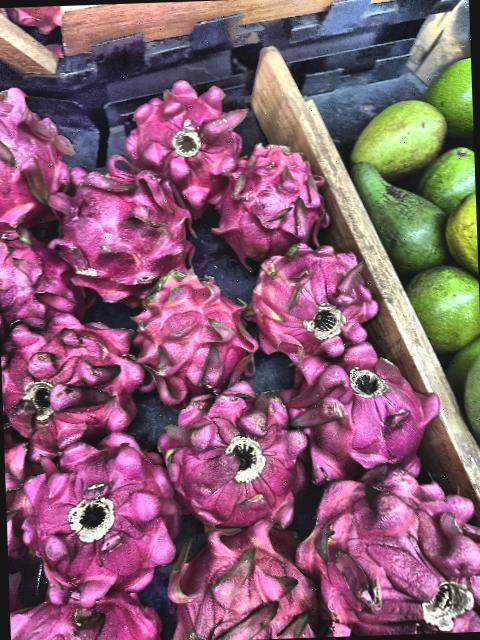buah-naga-matang: (301, 466, 480, 637), (11, 446, 186, 590), (277, 348, 442, 482), (152, 390, 310, 529), (50, 162, 204, 300), (235, 239, 398, 360), (165, 520, 319, 640), (0, 317, 142, 441), (128, 267, 261, 393), (215, 143, 335, 264), (113, 80, 244, 190), (0, 86, 76, 229), (0, 212, 80, 336)
